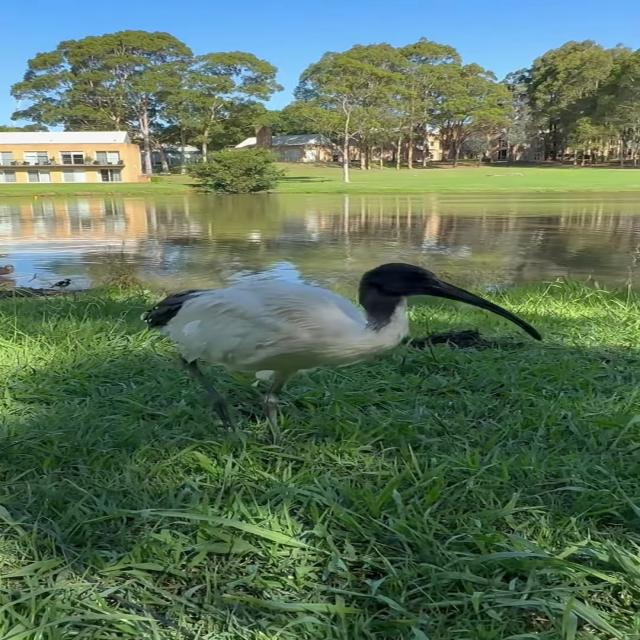Birds-Ibis: (141, 260, 551, 455)
Birds-Other: (48, 277, 78, 292), (0, 262, 18, 278)
